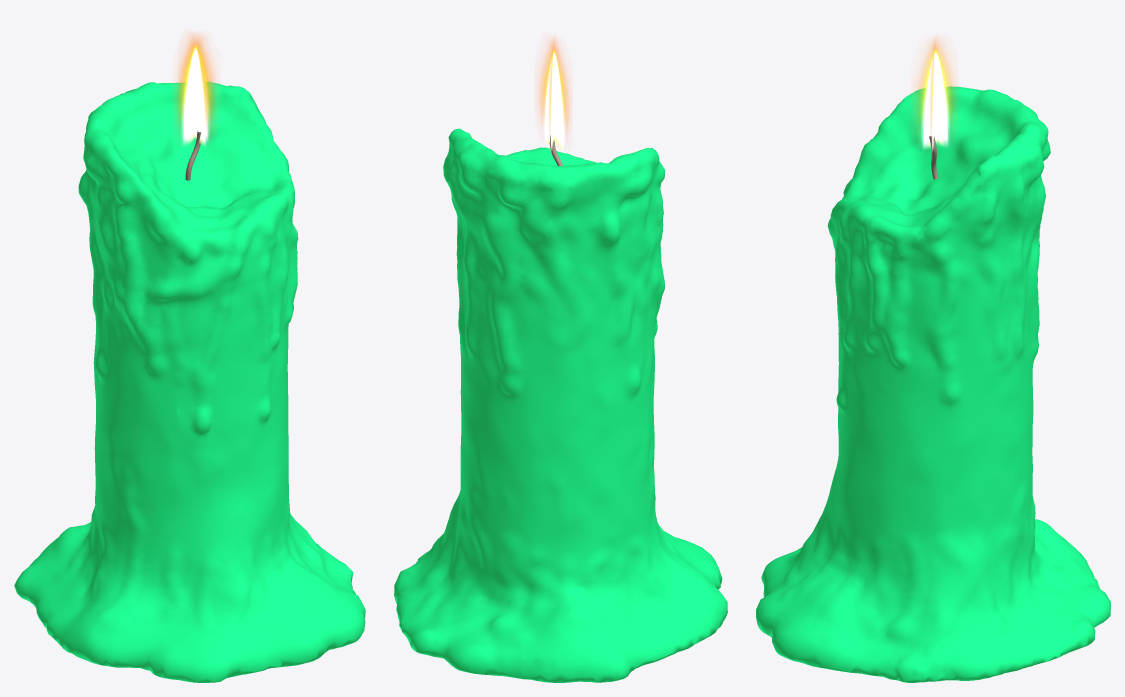
The model's file is XCandle.glb.
The picture shows the model from 3 angles, left to right: view 1: azimuth 30°, elevation 25°; view 2: azimuth 150°, elevation 25°; view 3: azimuth 270°, elevation 25°; orthographic projection.
Visible parts, largest first — view 1: Candle01, FLAME.080; view 2: Candle01, FLAME.080; view 3: Candle01, FLAME.080.
Part boxes in pixels (x1,y1,x2,y2): Candle01: (14, 82, 365, 682); FLAME.080: (176, 33, 215, 146); Candle01: (394, 128, 727, 682); FLAME.080: (538, 37, 569, 151); Candle01: (756, 86, 1110, 682); FLAME.080: (915, 36, 955, 151).
Size of the model in its own units: 2.24 by 4.35 by 2.38.
3 materials, 1 textured.
